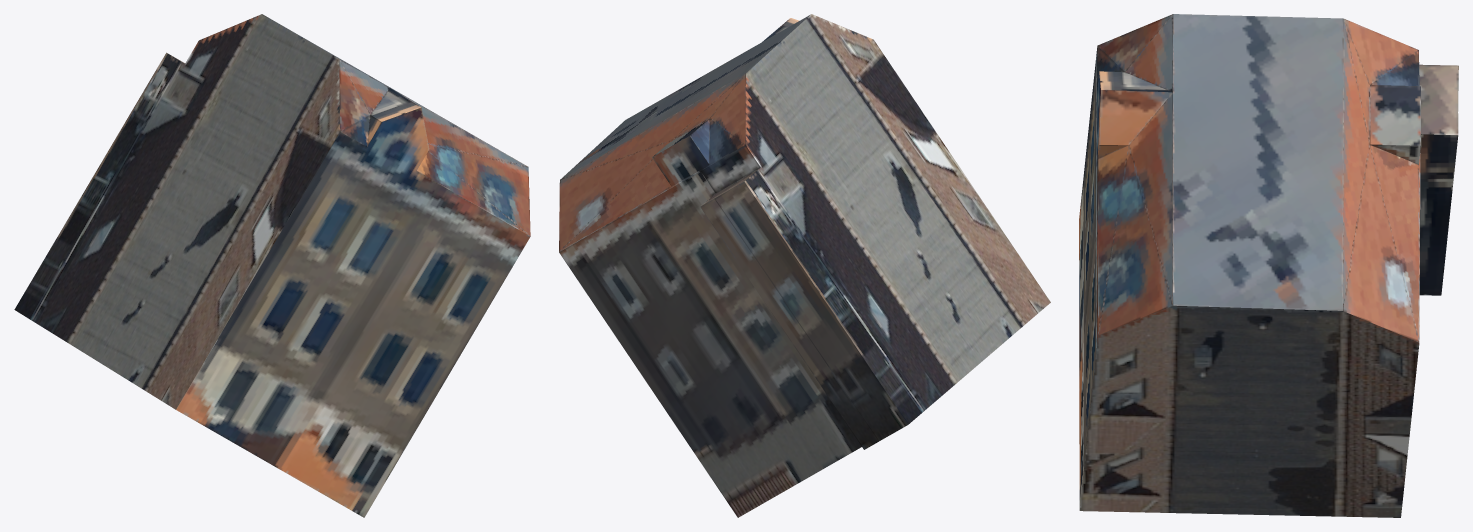
3 views of the same model, side by side, from view 1: azimuth 30°, elevation 25°; view 2: azimuth 150°, elevation 25°; view 3: azimuth 270°, elevation 25° (orthographic). The views are drawn at different scales.
Visible parts, largest first — view 1: BAG_0599100000688727 (×4); view 2: BAG_0599100000688727 (×5); view 3: BAG_0599100000688727 (×6).
Boxes of the visible parts, left/top/right/bottom form: BAG_0599100000688727 (×4): left=14, top=14, right=530, bottom=517; BAG_0599100000688727 (×5): left=559, top=14, right=1050, bottom=517; BAG_0599100000688727 (×6): left=1079, top=14, right=1458, bottom=517.
Bounding box in the file's own units: 15.53 × 16.14 × 10.76.
8 materials, 8 textured.
